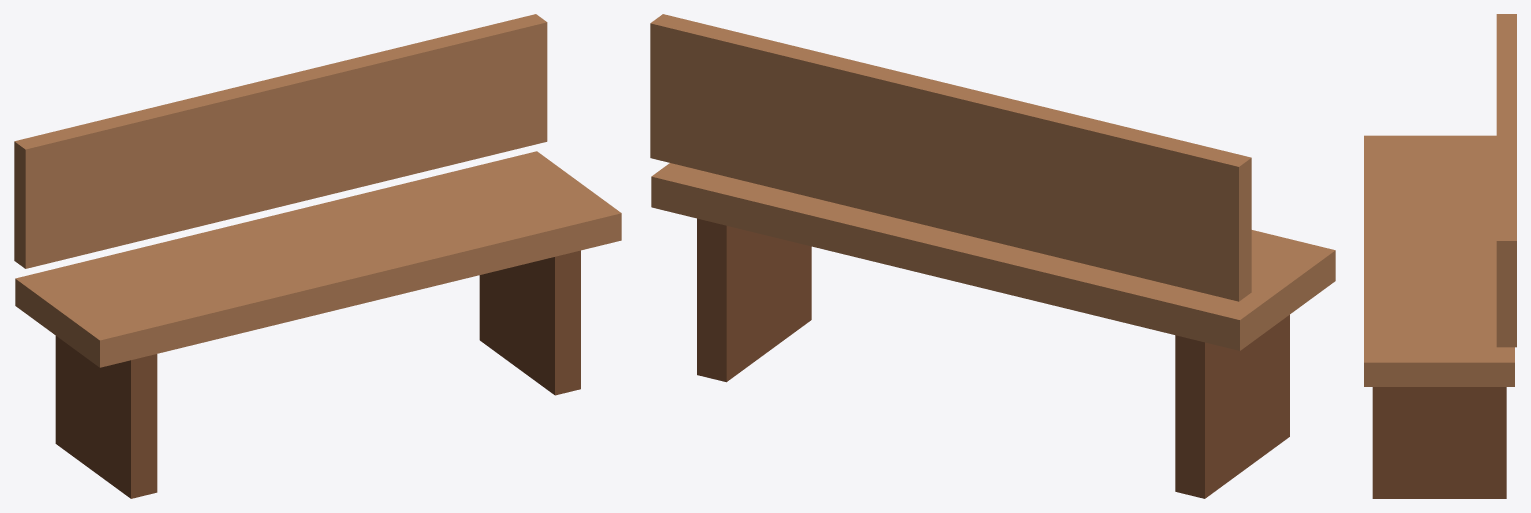
File: prop_bench.fbx
3 views of the same model, side by side, from view 1: azimuth 30°, elevation 25°; view 2: azimuth 150°, elevation 25°; view 3: azimuth 270°, elevation 25° (orthographic). The views are drawn at different scales.
Visible parts, largest first — view 1: prop_bench; view 2: prop_bench; view 3: prop_bench.
Boxes of the visible parts, box(x1,y1,x2,y2) form: prop_bench: box(14, 14, 621, 498); prop_bench: box(650, 14, 1335, 498); prop_bench: box(1364, 14, 1516, 498).
Size of the model in its own units: 1.6 by 0.9 by 0.455.
Materials: 1 (1 with a texture image).
